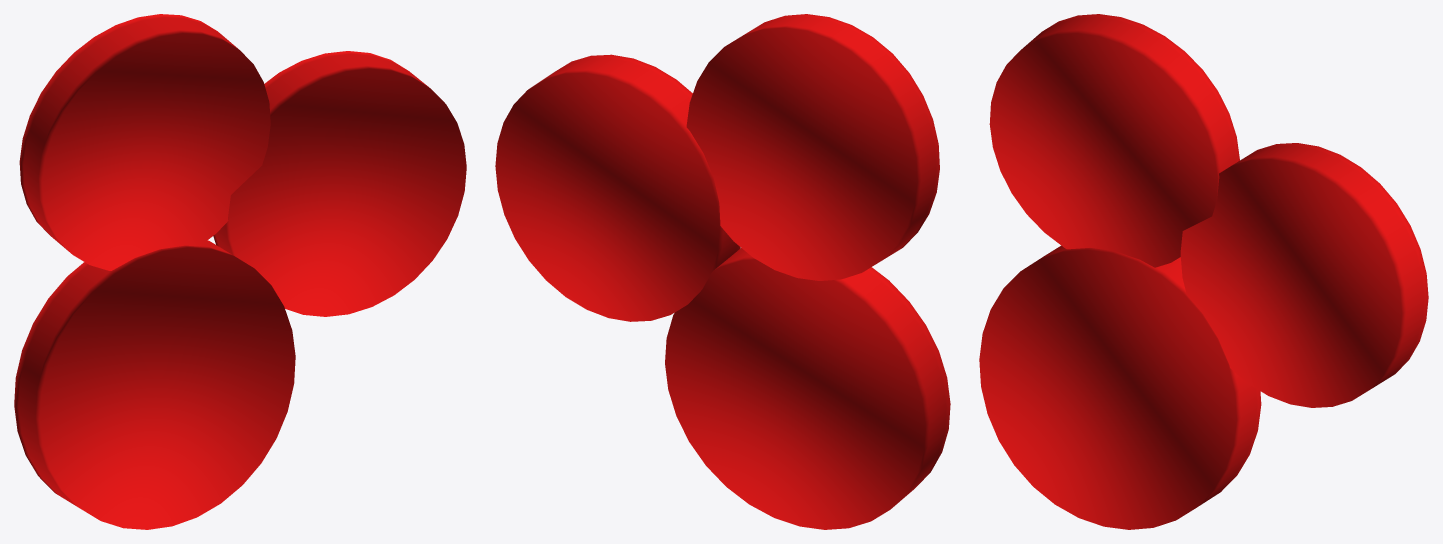
File: Tomates.glb
3 renders of one model, left to right at view 1: azimuth 30°, elevation 25°; view 2: azimuth 150°, elevation 25°; view 3: azimuth 330°, elevation 25°, orthographic.
Visible parts, largest first — view 1: imagetostl_mesh5; view 2: imagetostl_mesh5; view 3: imagetostl_mesh5.
Part boxes in pixels (x1,y1,x2,y2): imagetostl_mesh5: (14, 14, 466, 529); imagetostl_mesh5: (495, 14, 950, 529); imagetostl_mesh5: (979, 14, 1428, 529).
Bounding box in the file's own units: 0.2458 × 0.2709 × 0.0349.
